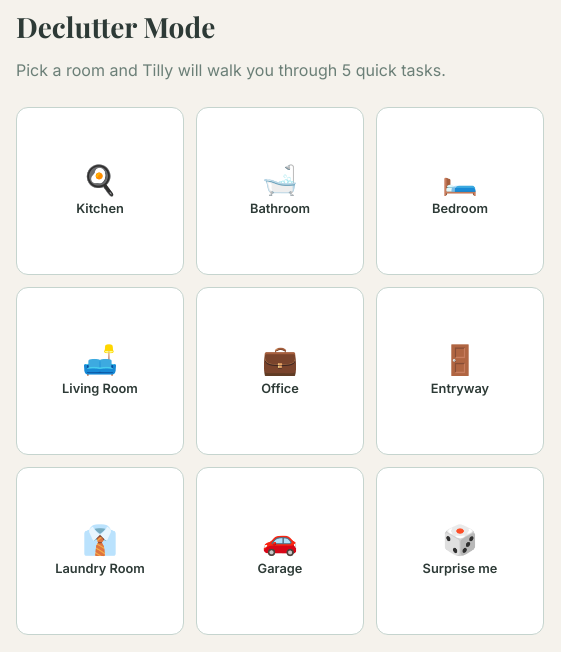
Scenario: Declutter › session phase › shows "Task 1 of 5" on the first card
The image size is (561, 652).
Click the button "🛁 Bathroom" at [280, 191], box [196,107,364,275]
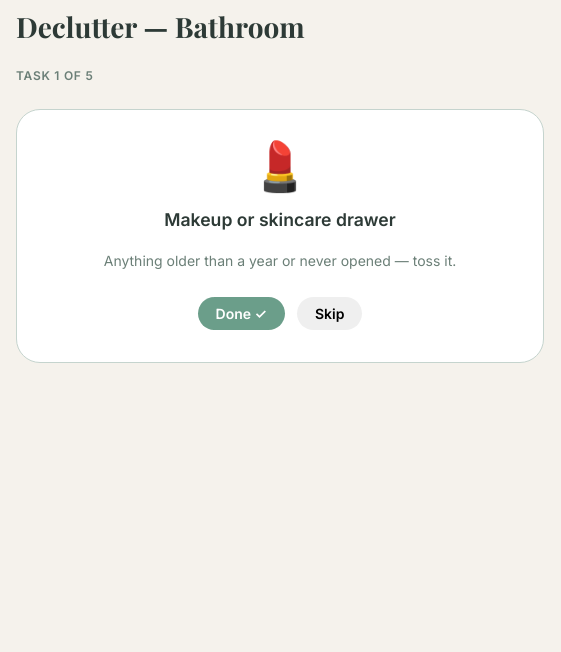
Result: the text "Task 1 of 5" is shown at [16,68,94,83]
